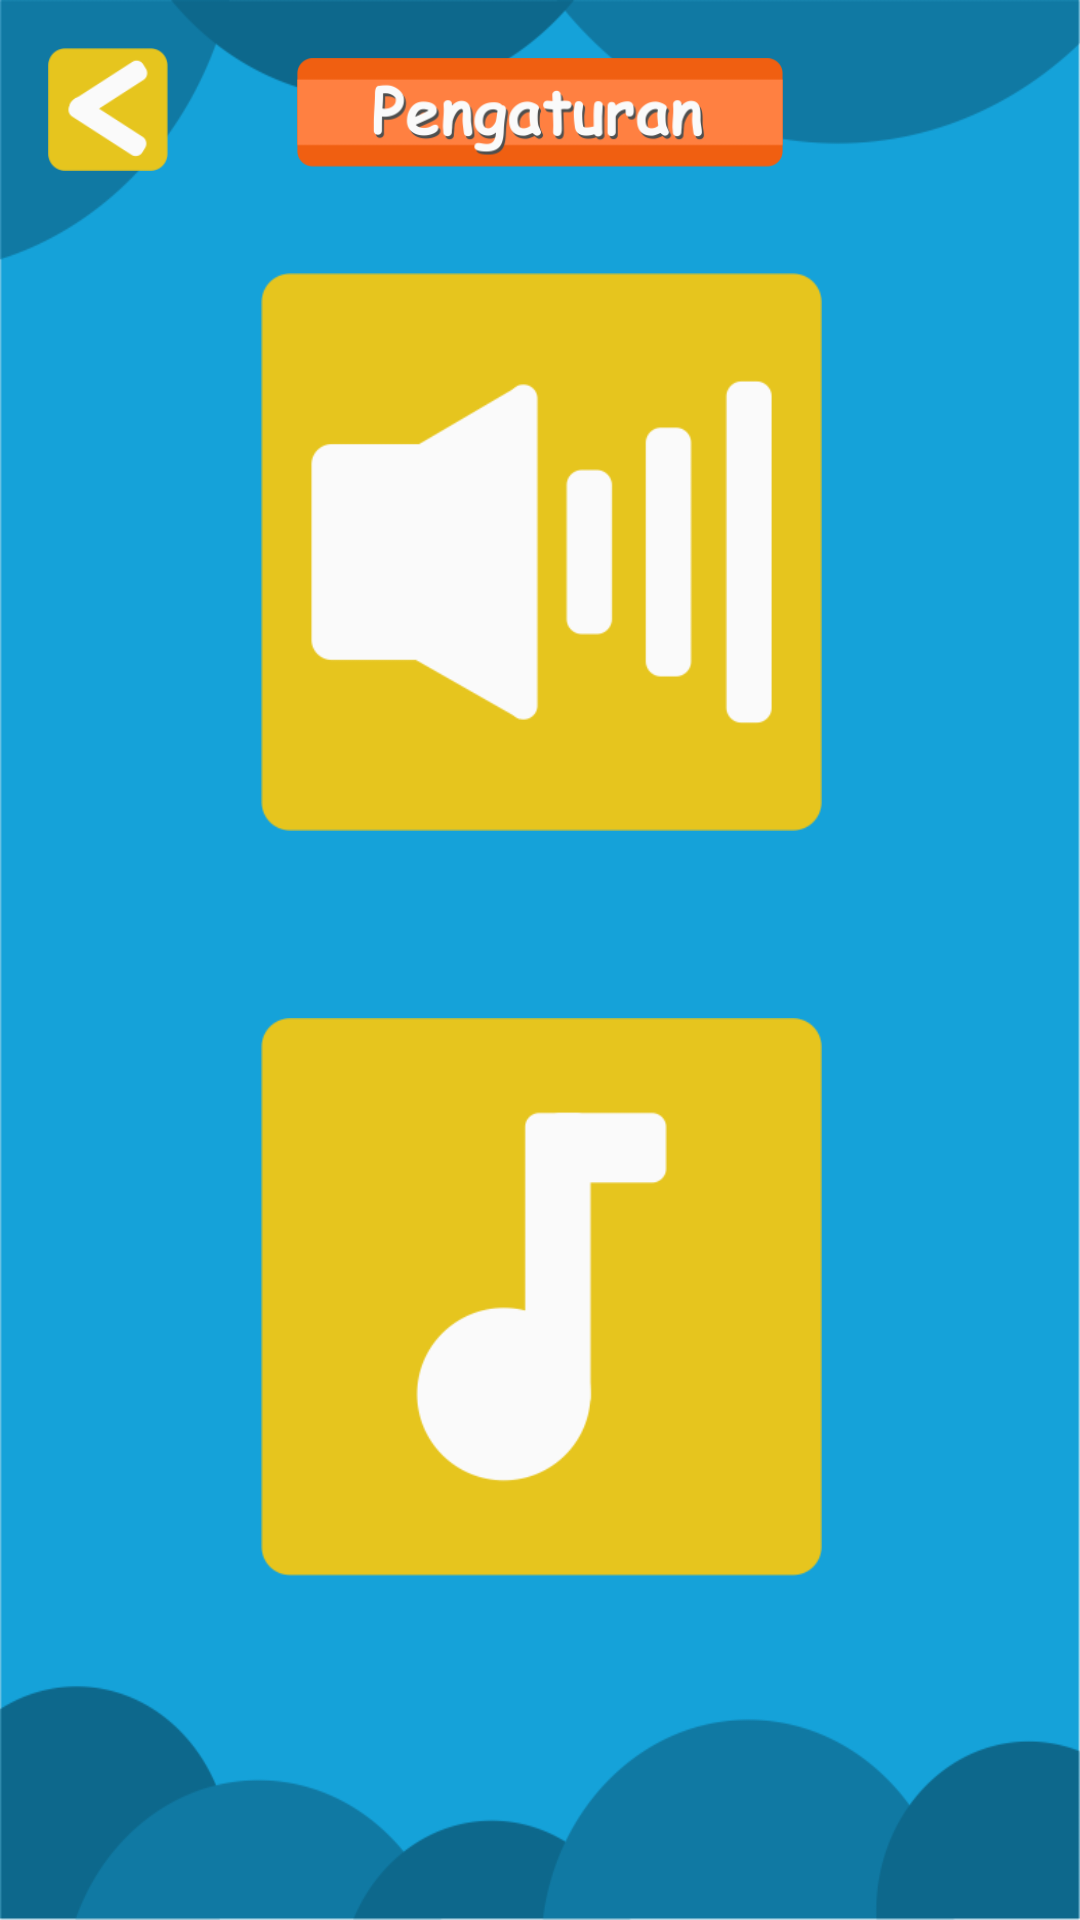

Screen size 1080px×1920px. Icon name, then its center in pixels as (x,y):
kembali: (108,109)
